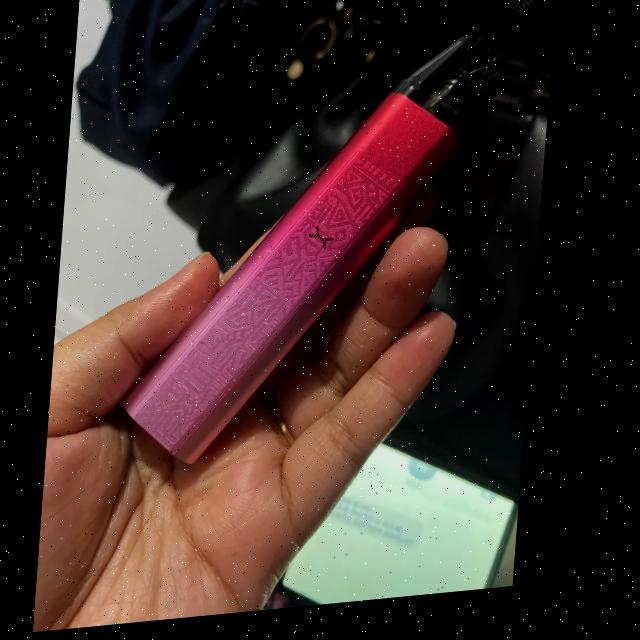vape: (126, 39, 513, 476)
